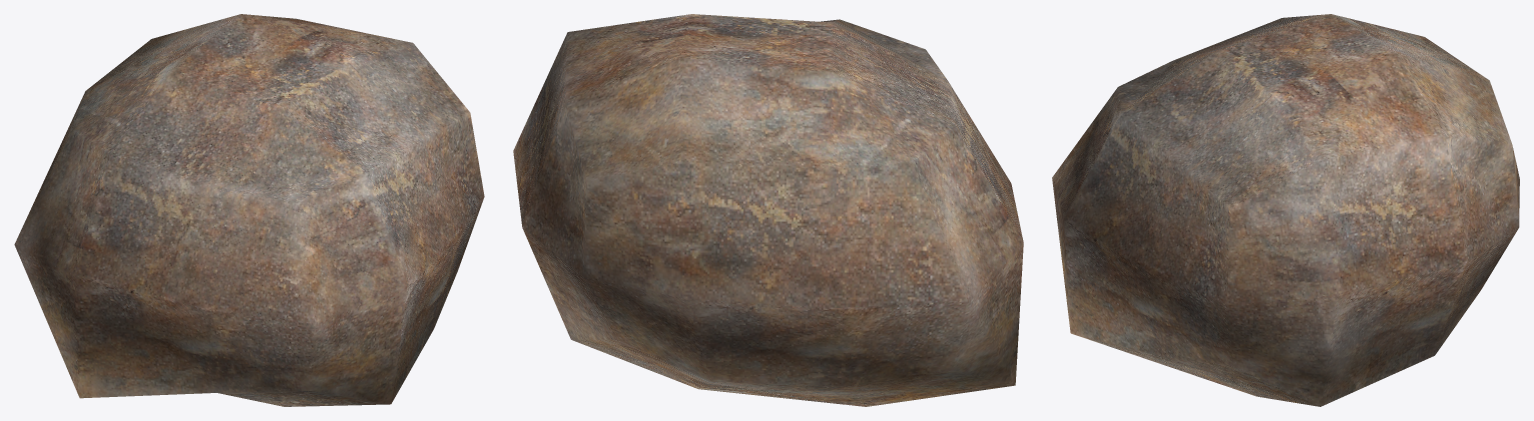
File: astroid3.glb
The picture shows the model from 3 angles, left to right: view 1: azimuth 30°, elevation 25°; view 2: azimuth 150°, elevation 25°; view 3: azimuth 270°, elevation 25°; orthographic projection. The views are drawn at different scales.
Parts seen in each view (by area): view 1: Rock - River Stone Low-poly; view 2: Rock - River Stone Low-poly; view 3: Rock - River Stone Low-poly.
Part boxes in pixels (x1,y1,x2,y2): Rock - River Stone Low-poly: [14, 14, 484, 406]; Rock - River Stone Low-poly: [513, 14, 1023, 406]; Rock - River Stone Low-poly: [1052, 14, 1519, 406].
Bounding box in the file's own units: 0.2776 × 0.1932 × 0.2613.
1 material, 1 textured.
